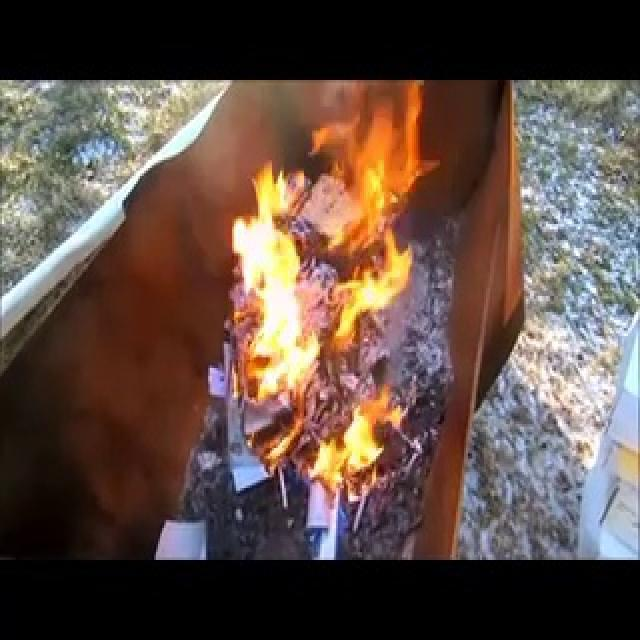Fire: (219, 90, 465, 502)
